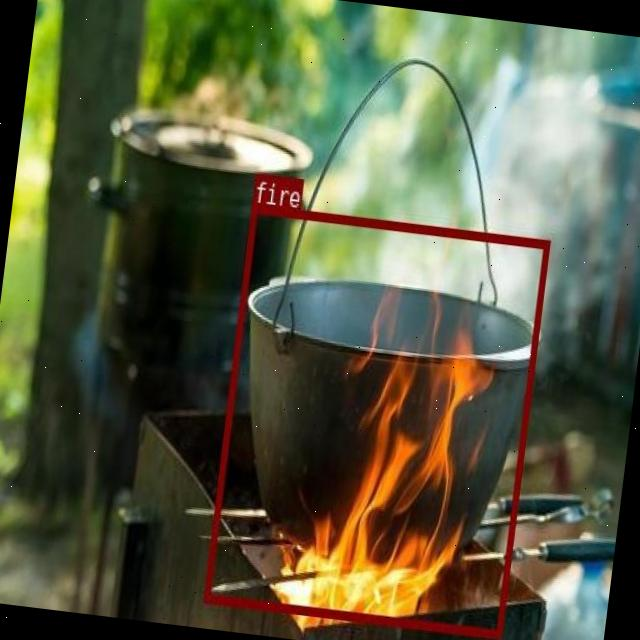fire: (202, 202, 549, 638)
